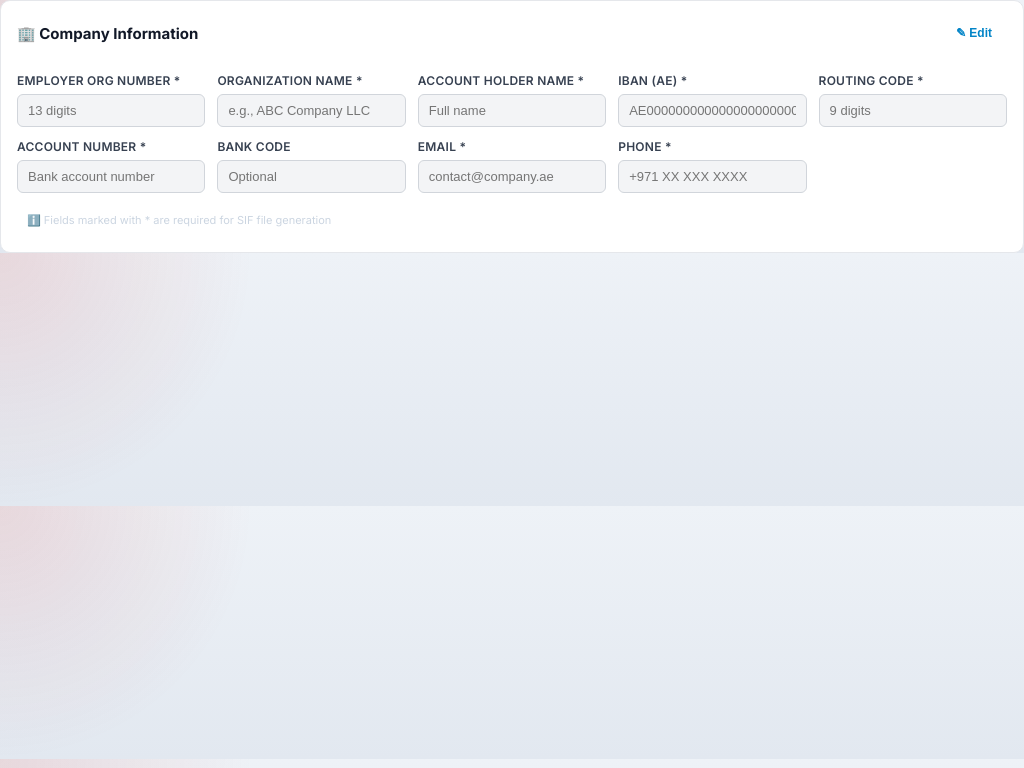
CompanyInfoSection — edit mode › button text goes back to "Edit" after clicking Done
This screenshot has width=1024, height=768.
Step 1. Click the button "✎ Edit" → (974, 33), box top-left (941, 17), bottom-right (1007, 49)
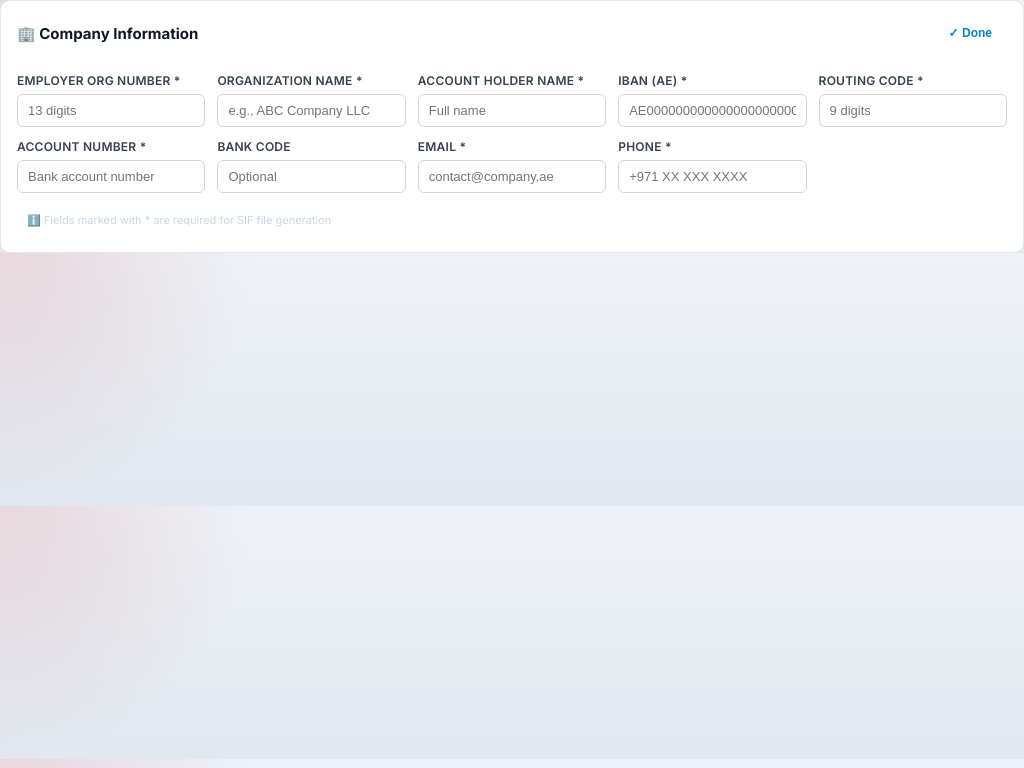
Step 2. Click the button "✓ Done" → (970, 33), box top-left (934, 17), bottom-right (1007, 49)
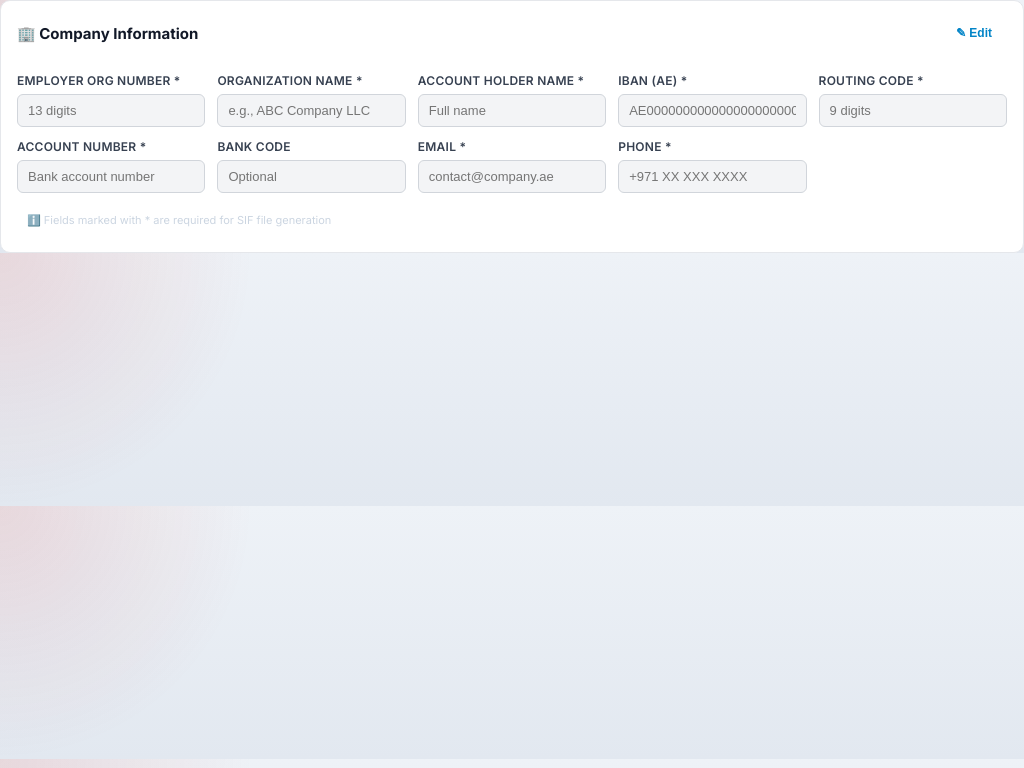
Expected: the button "✎ Edit" is shown, top-left (941, 17), bottom-right (1007, 49)
